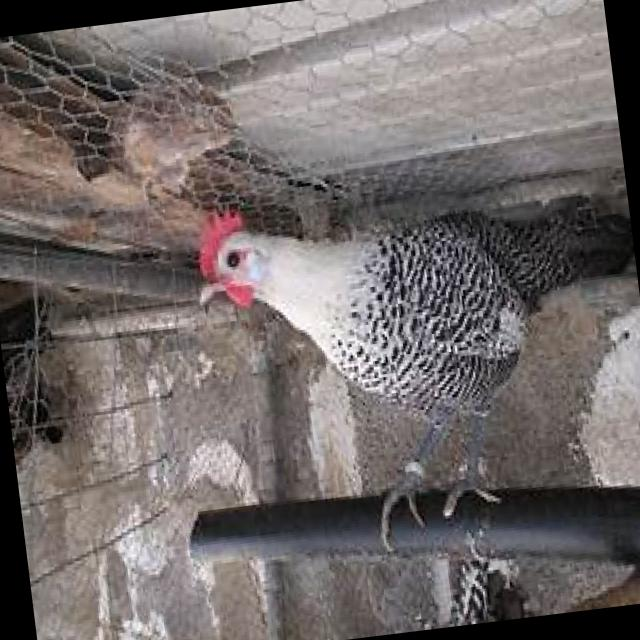animal: (188, 151, 640, 566)
